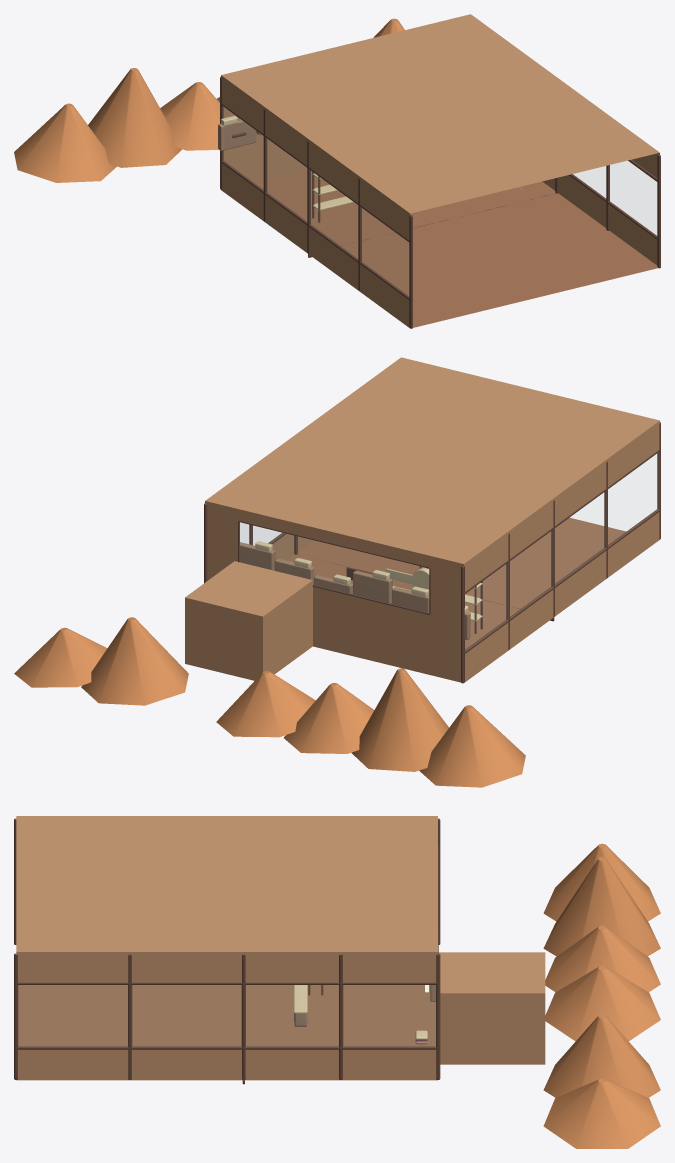
File: depot.glb
The picture shows the model from 3 angles, top to bottom: view 1: azimuth 30°, elevation 25°; view 2: azimuth 150°, elevation 25°; view 3: azimuth 270°, elevation 25°; orthographic projection. The views are drawn at different scales.
Parts seen in each view (by area): view 1: Roof panels - Wall, Floor extension - Floor, Outside the glazing - Glass rim, Port wall - Wall, Floor - Floor, Port wall - Rib, Starboard wall - Wall, Rear bulkhead - Wall, Starboard wall - Rib, Signature architecture - Secondary, Goods shelf - Pale; view 2: Roof panels - Wall, Outside the glazing - Glass rim, Rear bulkhead - Wall, Port wall - Wall, Stockroom - Wall, Floor extension - Floor, Store lid - Wall, Signature architecture - Secondary, Port wall - Rib, Floor - Floor, Signature architecture - Pale, Rear bulkhead - Rib; view 3: Roof panels - Wall, Outside the glazing - Glass rim, Starboard wall - Wall, Floor extension - Floor, Floor - Floor, Stockroom - Wall, Starboard wall - Rib, Store lid - Wall, Port wall - Rib.
Boxes of the visible parts, box(x1,y1,x2,y2) form: Roof panels - Wall: box(221, 14, 659, 213); Floor extension - Floor: box(341, 193, 657, 327); Outside the glazing - Glass rim: box(14, 18, 404, 182); Port wall - Wall: box(221, 75, 410, 327); Floor - Floor: box(253, 169, 555, 245); Port wall - Rib: box(220, 77, 412, 328); Starboard wall - Wall: box(542, 153, 659, 265); Rear bulkhead - Wall: box(223, 107, 307, 181); Starboard wall - Rib: box(555, 154, 660, 268); Signature architecture - Secondary: box(218, 119, 261, 150); Goods shelf - Pale: box(312, 173, 353, 210); Roof panels - Wall: box(205, 357, 659, 563); Outside the glazing - Glass rim: box(14, 617, 525, 787); Rear bulkhead - Wall: box(205, 501, 463, 682); Port wall - Wall: box(464, 421, 659, 682); Stockroom - Wall: box(185, 580, 312, 680); Floor extension - Floor: box(297, 517, 626, 608); Store lid - Wall: box(185, 561, 312, 616); Signature architecture - Secondary: box(239, 542, 470, 639); Port wall - Rib: box(461, 422, 660, 683); Floor - Floor: box(287, 554, 519, 649); Signature architecture - Pale: box(255, 541, 468, 613); Rear bulkhead - Rib: box(238, 520, 430, 614); Roof panels - Wall: box(16, 816, 437, 951); Outside the glazing - Glass rim: box(543, 843, 660, 1148); Starboard wall - Wall: box(16, 952, 437, 1080); Floor extension - Floor: box(18, 985, 241, 1046); Floor - Floor: box(246, 985, 435, 1046); Stockroom - Wall: box(440, 993, 545, 1064); Starboard wall - Rib: box(14, 953, 440, 1079); Store lid - Wall: box(438, 952, 545, 993); Port wall - Rib: box(14, 818, 440, 944).
Size of the model in its own units: 36.79 by 9.43 by 38.64.
